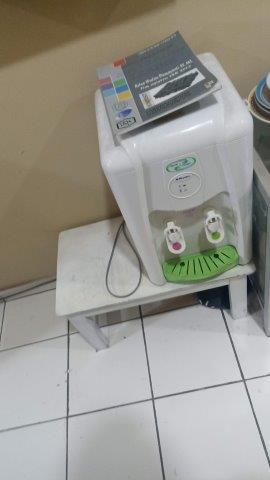kertas: (95, 31, 221, 135)
